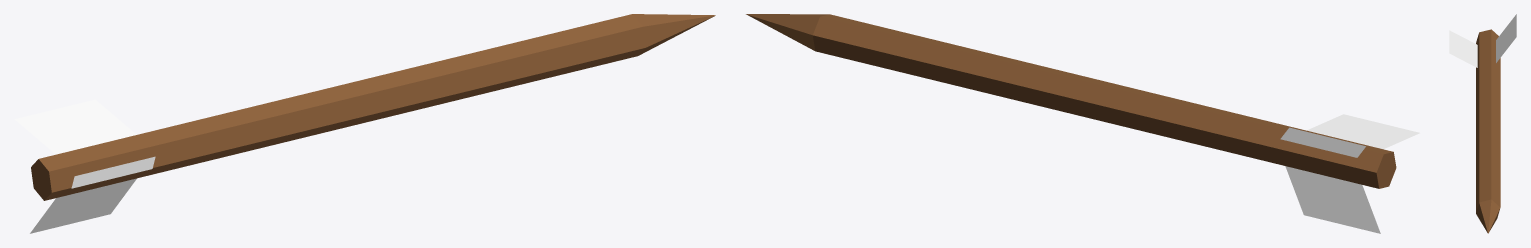
The model's file is Arrow.fbx.
The picture shows the model from 3 angles, left to right: view 1: azimuth 30°, elevation 25°; view 2: azimuth 150°, elevation 25°; view 3: azimuth 270°, elevation 25°; orthographic projection. The views are drawn at different scales.
Visible parts, largest first — view 1: Weapon_Arrow07; view 2: Weapon_Arrow07; view 3: Weapon_Arrow07.
Boxes of the visible parts, x1=… form: Weapon_Arrow07: x1=14, y1=14, x2=715, y2=233; Weapon_Arrow07: x1=746, y1=14, x2=1419, y2=233; Weapon_Arrow07: x1=1449, y1=14, x2=1516, y2=233.
Size of the model in its own units: 64.87 by 9.46 by 9.46.
